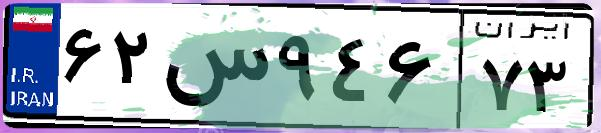2: (110, 28, 158, 98)
3: (525, 38, 570, 115)
4: (330, 28, 385, 110)
6: (385, 28, 445, 110), (57, 26, 110, 100)
7: (475, 38, 525, 113)
9: (270, 28, 330, 110)
س: (158, 20, 270, 120)
